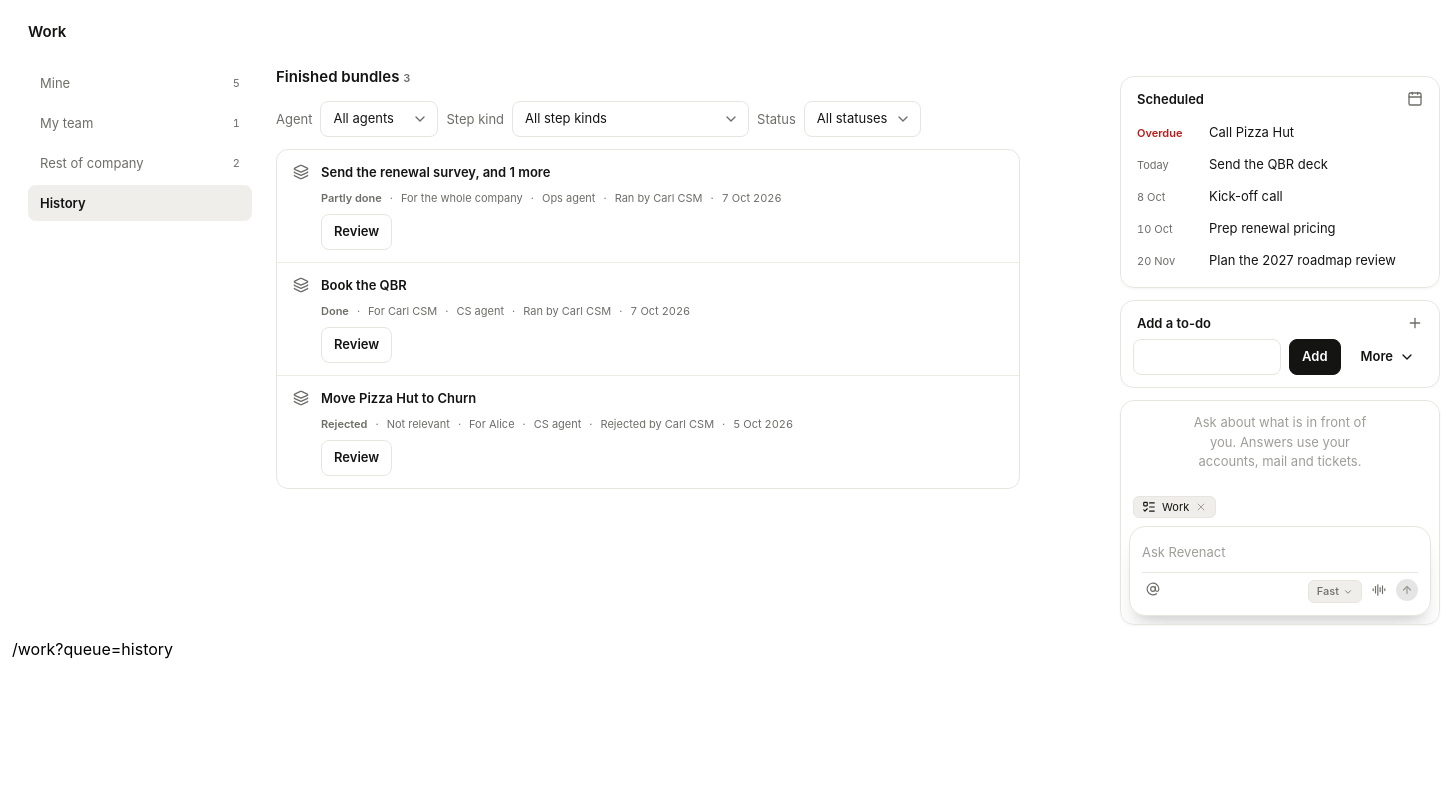
Scenario: History (spec §8.1; frontend Decision 13) › lists finished bundles newest first with their status, and filters in the URL
The image size is (1452, 810).
Expected: the headings read "Send the renewal survey, and 1 more", "Book the QBR", "Move Pizza Hut to Churn", in this order, left=321, top=164, right=550, bottom=180; left=321, top=277, right=407, bottom=293; left=321, top=390, right=476, bottom=406
Expected: the text "Partly done" is shown, left=321, top=190, right=382, bottom=206
Select "Done" in the dropdown labelled "Status". click: [862, 119]
box: left=804, top=101, right=921, bottom=137
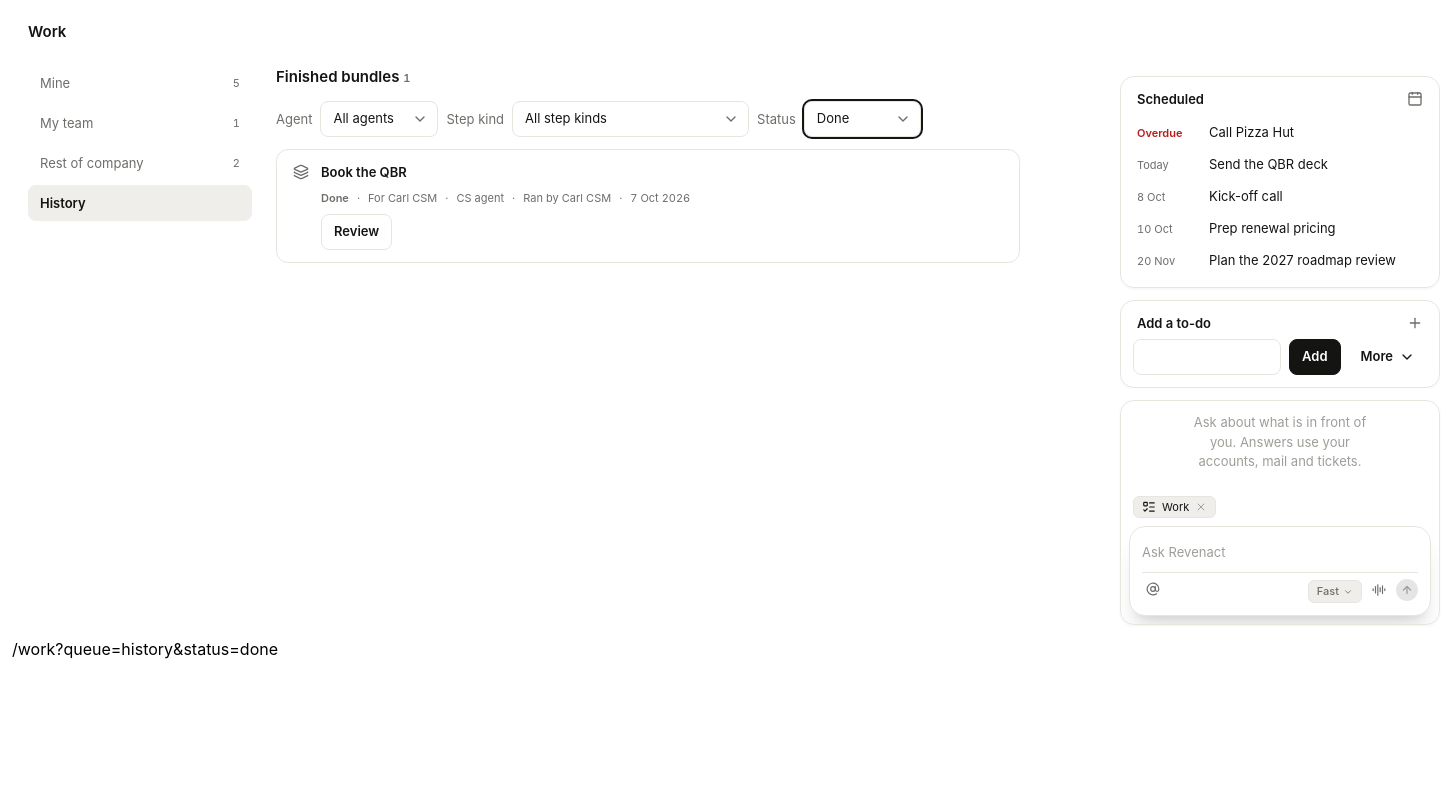
Expected: the text with test id "where" reads "/work?queue=history&status=done", left=12, top=639, right=278, bottom=659
Expected: the headings read "Book the QBR", in this order, left=321, top=164, right=407, bottom=180
